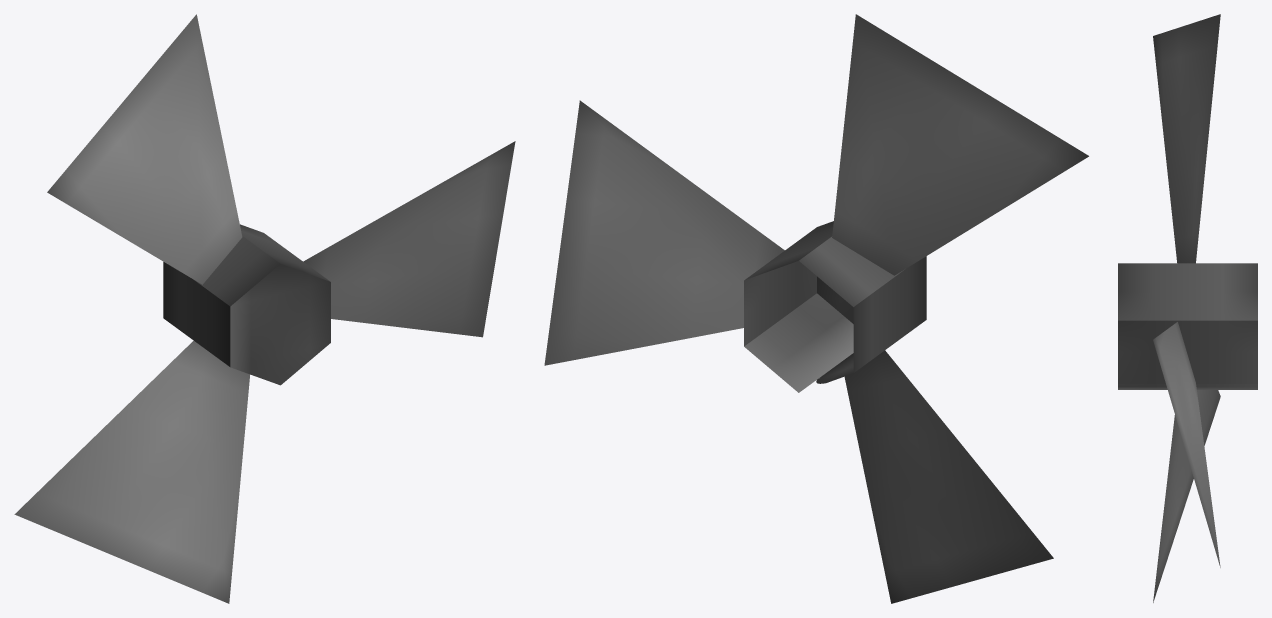
File: purex_fan.obj
3 views of the same model, side by side, from view 1: azimuth 30°, elevation 25°; view 2: azimuth 150°, elevation 25°; view 3: azimuth 270°, elevation 25° (orthographic). The views are drawn at different scales.
Parts seen in each view (by area): view 1: Fan; view 2: Fan; view 3: Fan.
Boxes of the visible parts, x1,y1,x2,y2 form: Fan: (14,14,515,603); Fan: (544,14,1088,603); Fan: (1118,14,1257,602).
Size of the model in its own units: 0.504 by 0.5819 by 0.125.
